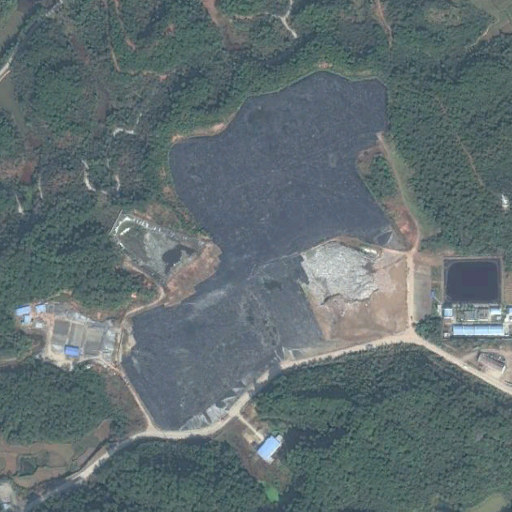lf: (123, 72, 410, 434)
